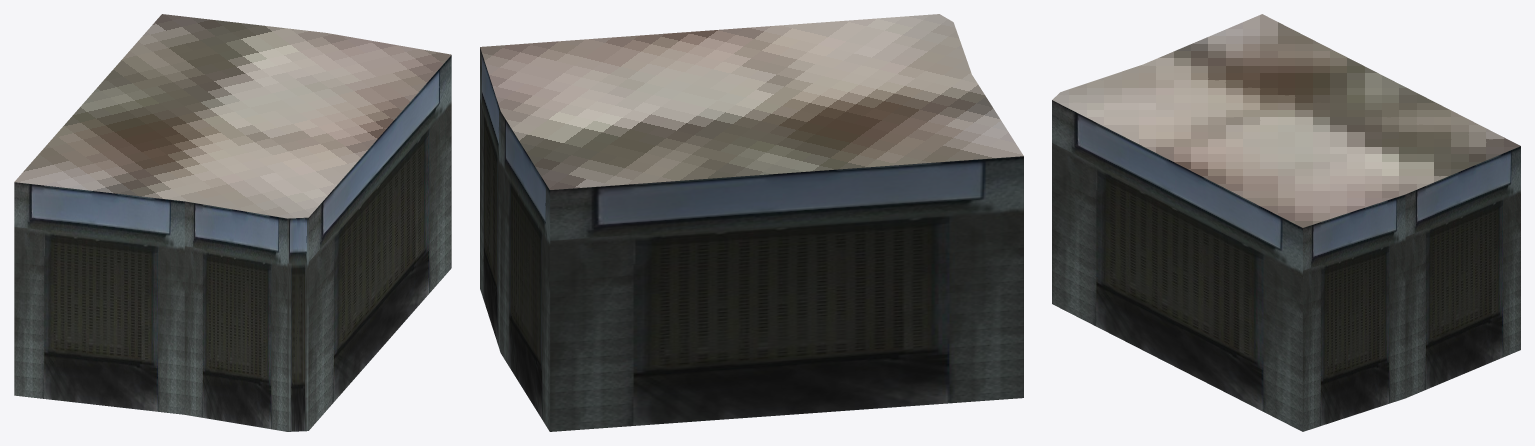
The picture shows the model from 3 angles, left to right: view 1: azimuth 30°, elevation 25°; view 2: azimuth 150°, elevation 25°; view 3: azimuth 270°, elevation 25°; orthographic projection. The views are drawn at different scales.
Visible parts, largest first — view 1: SketchUp (×5); view 2: SketchUp (×4); view 3: SketchUp (×4).
Part boxes in pixels (<box>): SketchUp (×5): <box>14,14,451,431</box>; SketchUp (×4): <box>480,14,1023,431</box>; SketchUp (×4): <box>1052,14,1520,431</box>.
Size of the model in its own units: 7.4 by 6.85 by 3.29.
2 materials, 2 textured.
